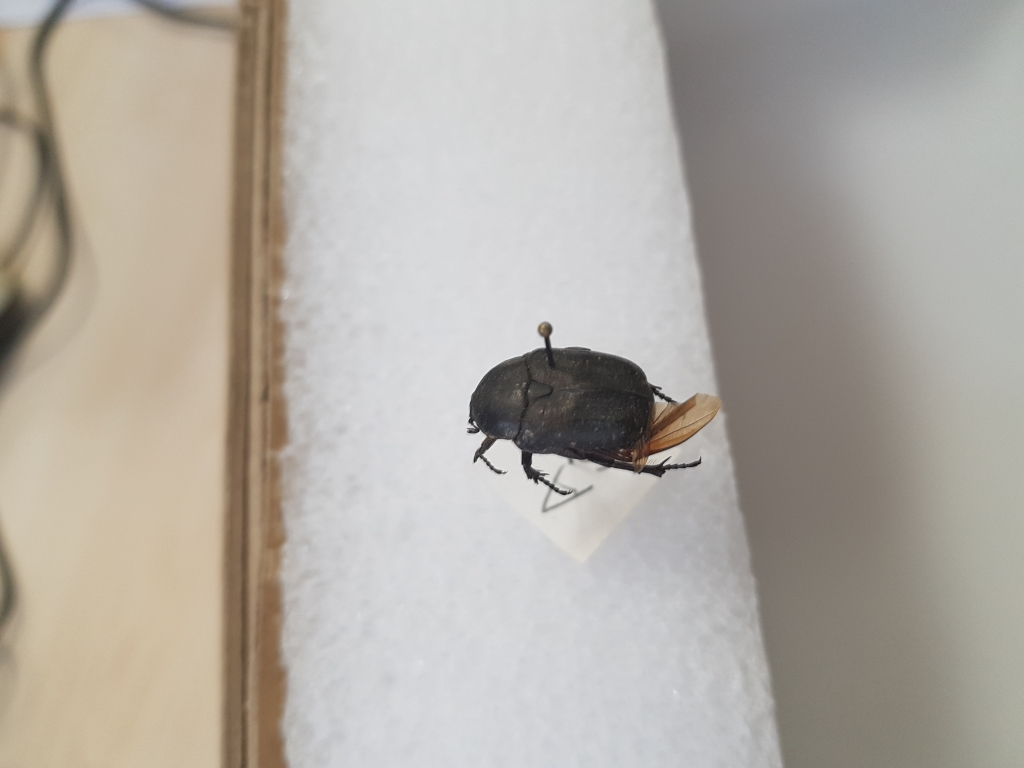Protaetia_asiatica: (454, 331, 723, 498)
